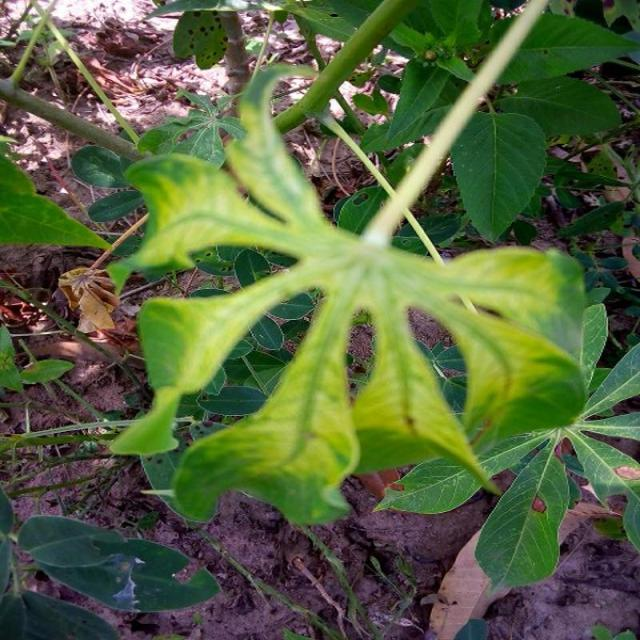cassava leaf: (110, 58, 593, 528), (18, 513, 222, 613), (450, 108, 548, 243)
